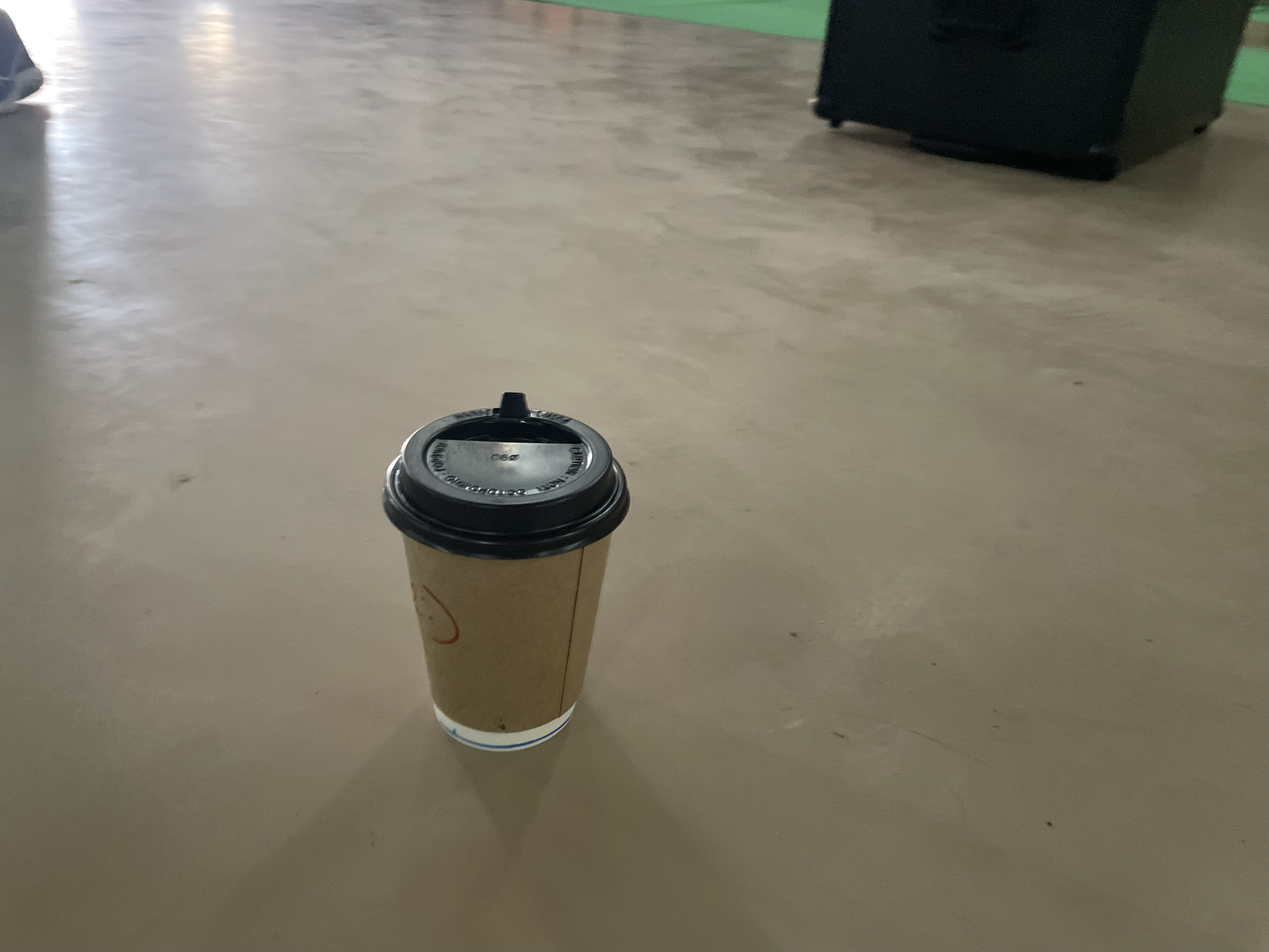cup: (381, 390, 631, 753)
